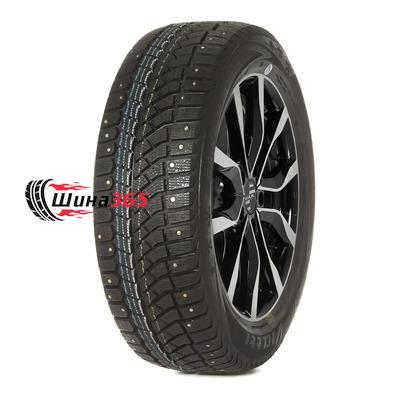objects: (24, 176, 151, 224)
